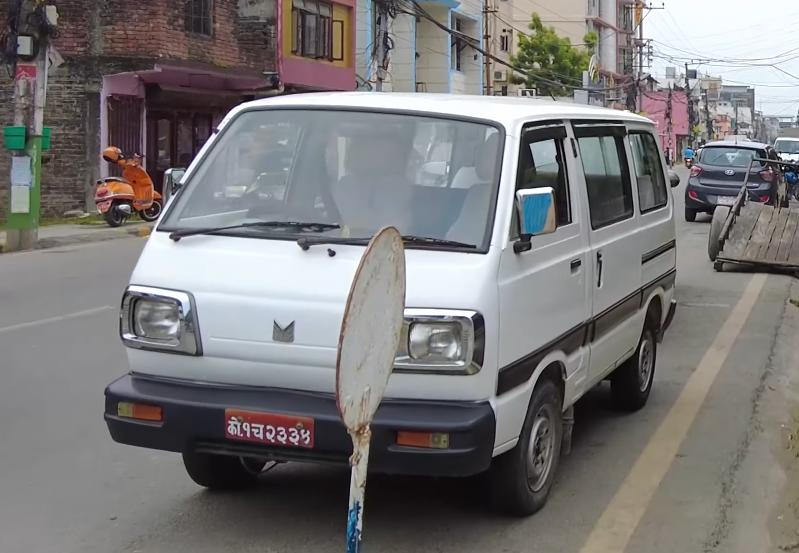car: (683, 133, 788, 225)
scooter: (94, 152, 161, 227)
van: (95, 83, 710, 524)
